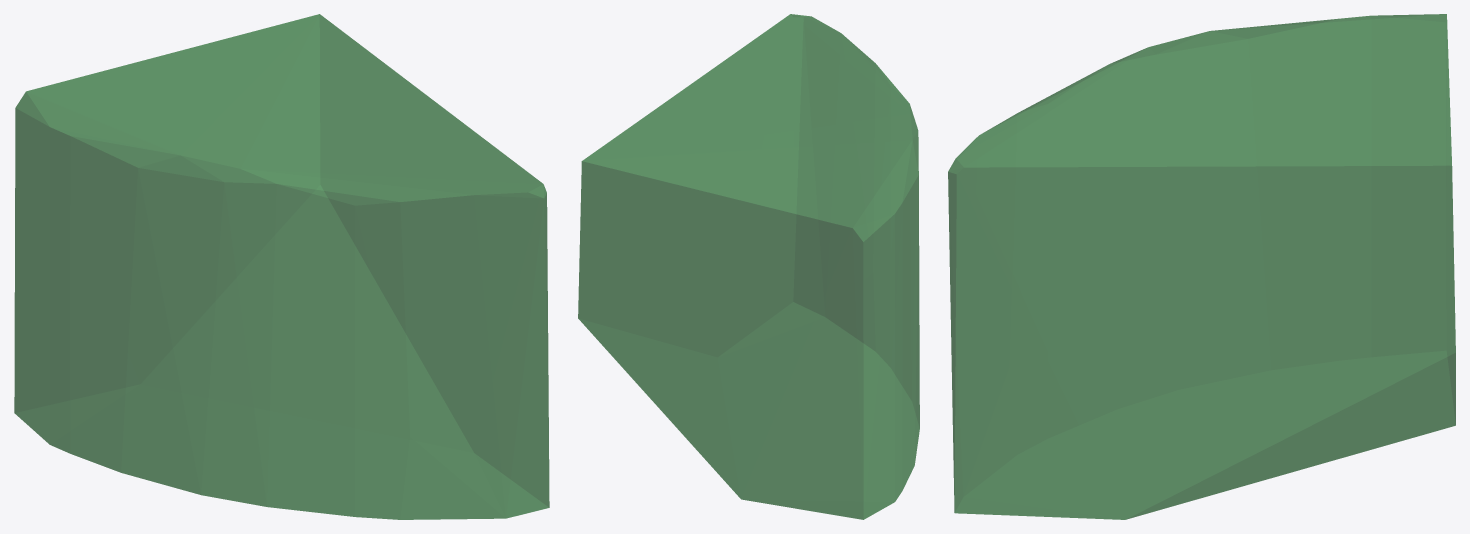
The picture shows the model from 3 angles, left to right: view 1: azimuth 30°, elevation 25°; view 2: azimuth 150°, elevation 25°; view 3: azimuth 270°, elevation 25°; orthographic projection. The views are drawn at different scales.
Visible parts, largest first — view 1: Shape_IndexedFaceSet.003_Shape_IndexedFaceSet.5679; view 2: Shape_IndexedFaceSet.003_Shape_IndexedFaceSet.5679; view 3: Shape_IndexedFaceSet.003_Shape_IndexedFaceSet.5679.
Boxes of the visible parts, left/top/right/bottom form: Shape_IndexedFaceSet.003_Shape_IndexedFaceSet.5679: left=14, top=14, right=549, bottom=519; Shape_IndexedFaceSet.003_Shape_IndexedFaceSet.5679: left=578, top=14, right=919, bottom=519; Shape_IndexedFaceSet.003_Shape_IndexedFaceSet.5679: left=948, top=14, right=1455, bottom=519.
Size of the model in its own units: 0.1581 by 0.161 by 0.2084.
